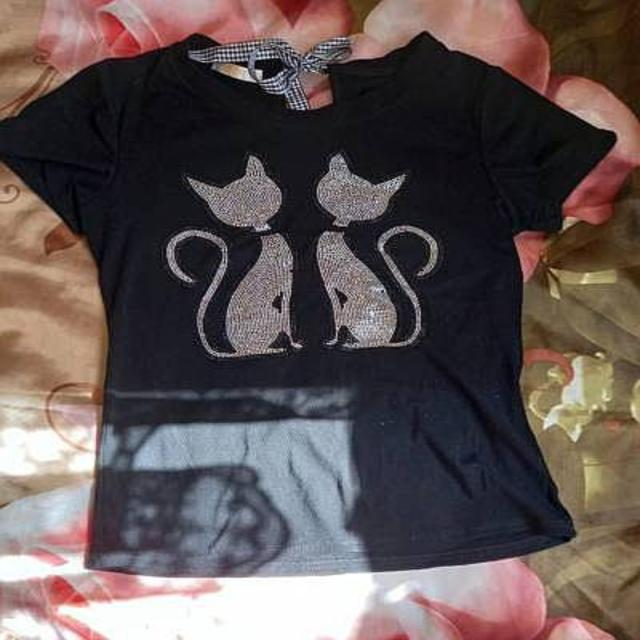T_SHIRT: (3, 26, 640, 595)
